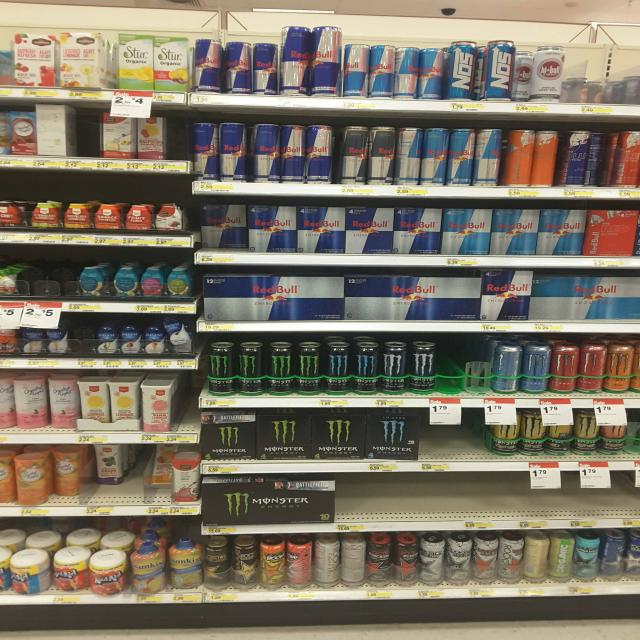void: (422, 411, 488, 475), (559, 468, 617, 535), (395, 475, 448, 537), (342, 470, 388, 532), (444, 341, 486, 406), (459, 476, 503, 530), (508, 478, 546, 536), (72, 108, 101, 173), (126, 445, 150, 521), (174, 376, 199, 446), (28, 262, 58, 318), (169, 114, 193, 178), (68, 320, 90, 368), (58, 262, 78, 314), (563, 52, 579, 112)
